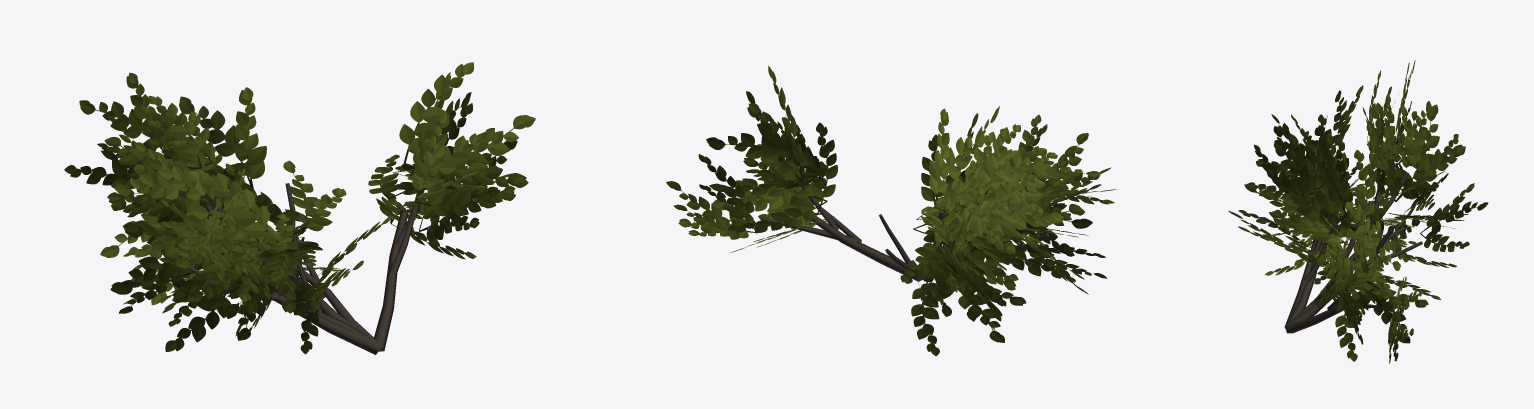
Rendered from bush_1_burnt2.glb.
3 views of the same model, side by side, from view 1: azimuth 30°, elevation 25°; view 2: azimuth 150°, elevation 25°; view 3: azimuth 270°, elevation 25° (orthographic). The views are drawn at different scales.
Visible parts, largest first — view 1: bush_1_burnt2; view 2: bush_1_burnt2; view 3: bush_1_burnt2.
Part boxes in pixels (x1,y1,x2,y2): bush_1_burnt2: [64, 62, 535, 354]; bush_1_burnt2: [666, 65, 1116, 356]; bush_1_burnt2: [1228, 60, 1488, 363].
Size of the model in its own units: 3.07 by 1.73 by 2.12.
2 materials, 1 textured.
